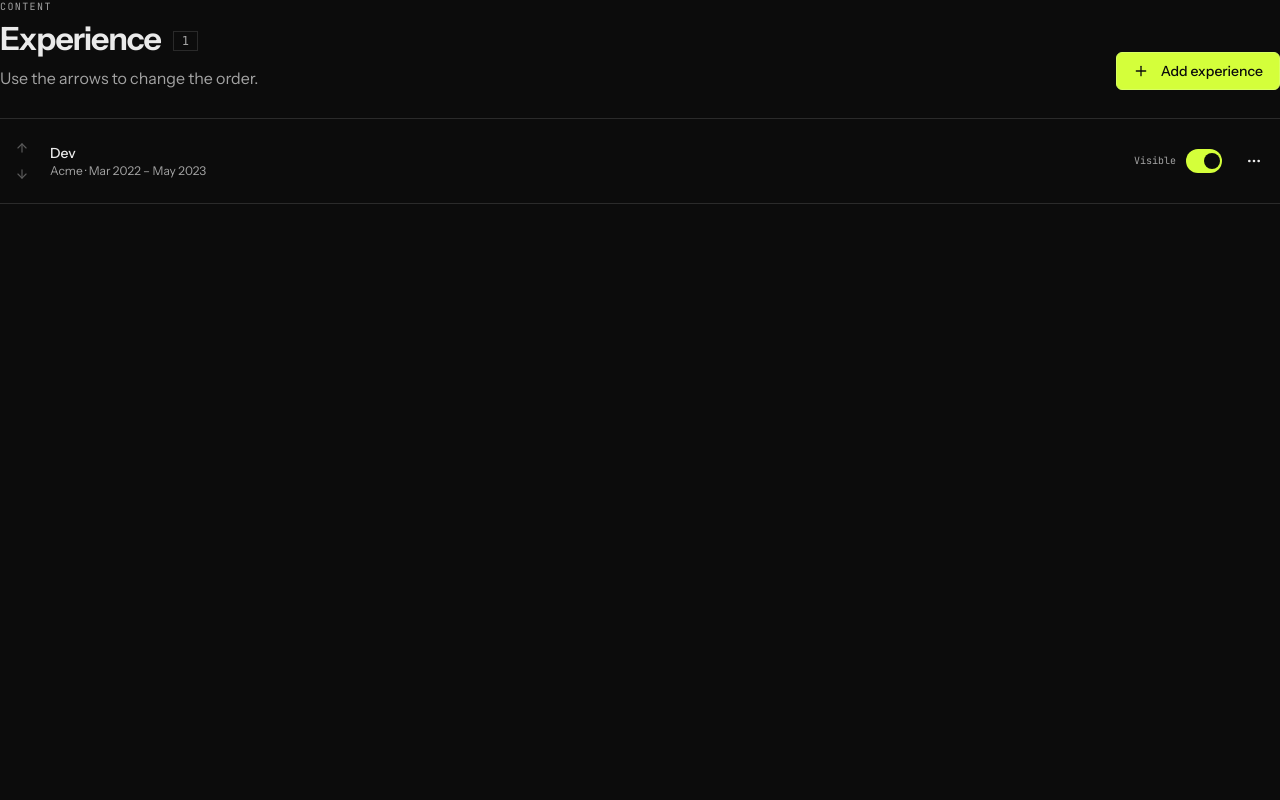
Scenario: experience form › end before start shows the schema's error under End
The image size is (1280, 800).
Click the text "Dev": (63, 153) top-left (50, 143), bottom-right (76, 163)
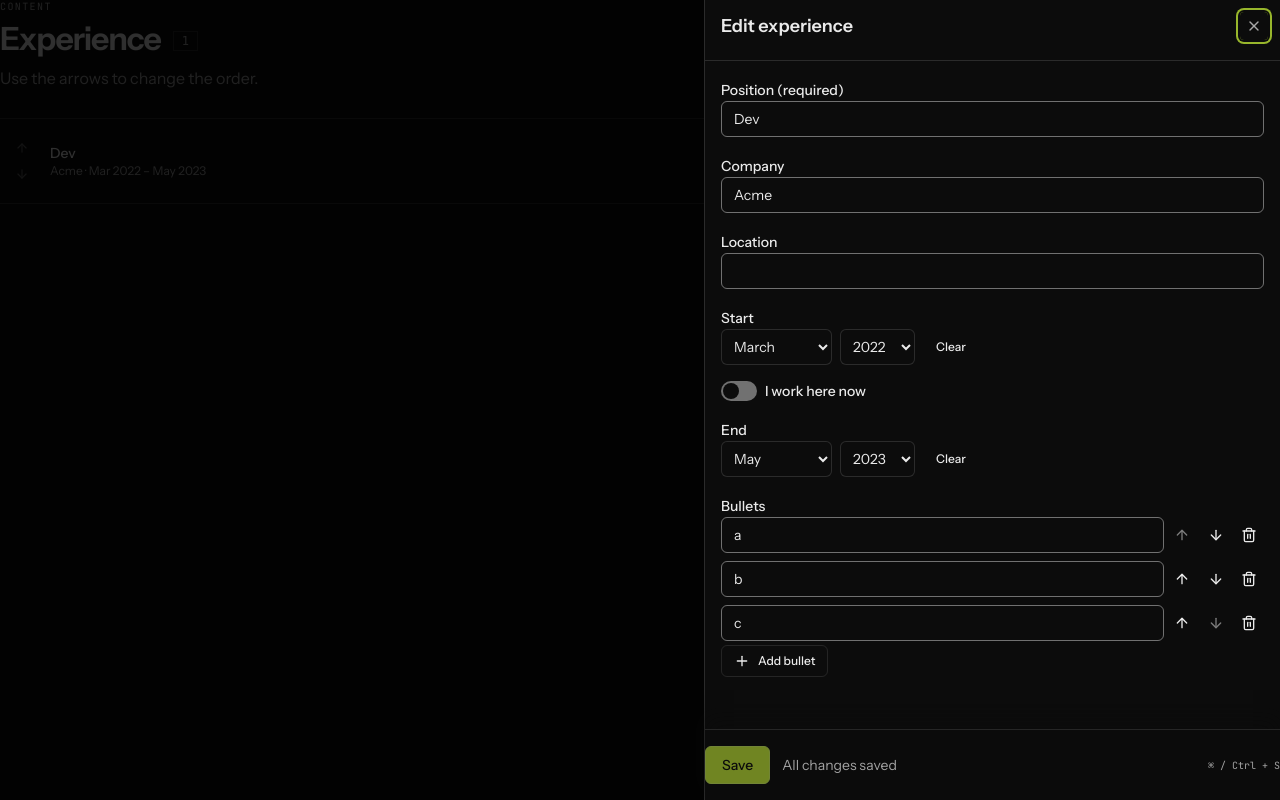
Select "2020" in the dropdown named "End year": (878, 459) top-left (840, 441), bottom-right (915, 477)
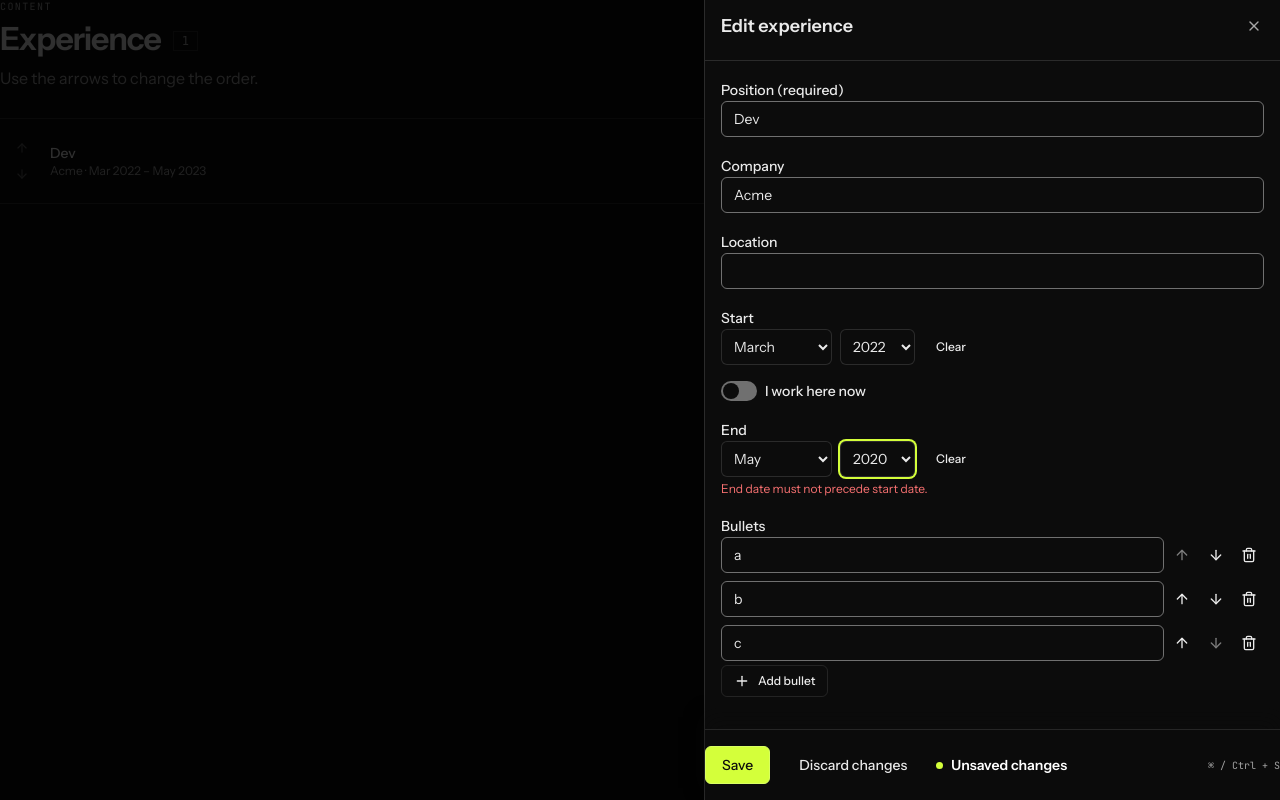
Click the button "Save": (738, 765) top-left (705, 746), bottom-right (770, 784)
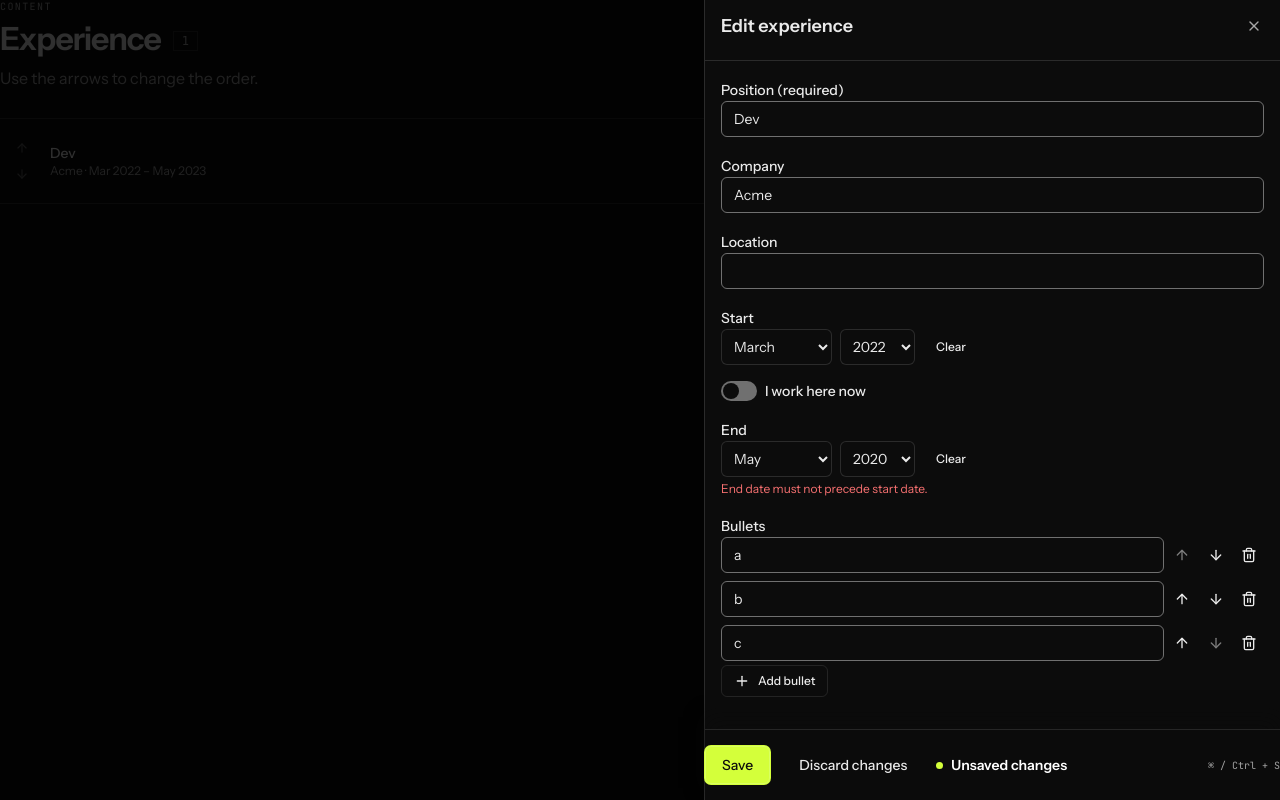
Expected: the dropdown named "End month" is marked as invalid, top-left (721, 441), bottom-right (832, 477)
Expected: the dropdown named "End year" is marked as invalid, top-left (840, 441), bottom-right (915, 477)
